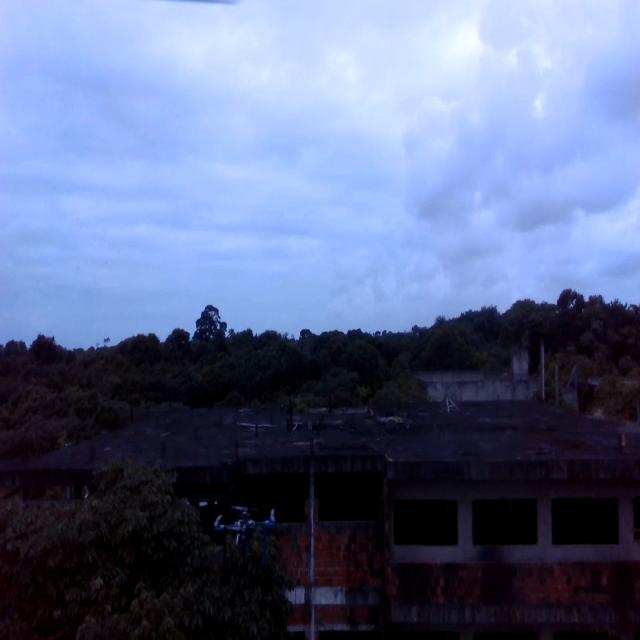-uav-: (194, 489, 294, 588)
